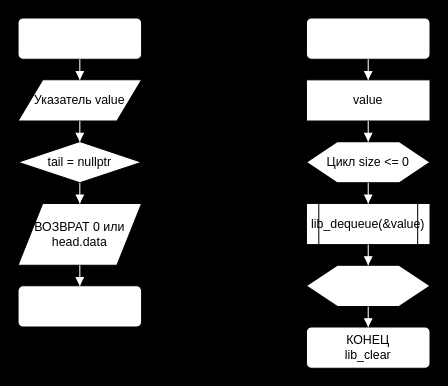
Some shapes in this 448 by 386 pixel diagram are drawn without their labels. The box of each missing label's shape, as (x1, y1, x2, y2) in pixels:
lib_clear НАЧАЛО: (305, 17, 430, 59)
lib_peek НАЧАЛО: (17, 17, 142, 59)
КОНЕЦ lib_peek: (17, 285, 142, 327)
Цикл: (305, 264, 430, 306)
